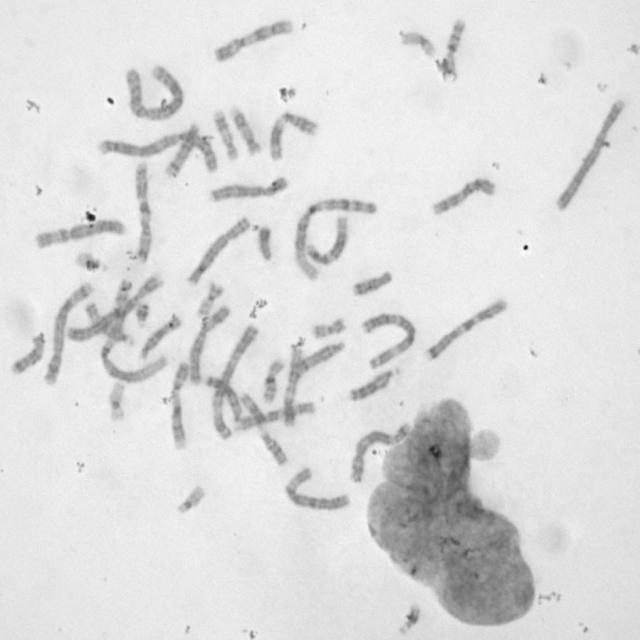A1: (98, 279, 168, 384), (292, 197, 377, 283)
A2: (97, 130, 219, 174), (124, 60, 185, 123)
A3: (211, 323, 260, 442), (360, 310, 417, 370)
B4: (554, 98, 626, 212), (65, 270, 166, 346)
B5: (42, 281, 95, 387), (350, 421, 410, 484)
C10: (428, 176, 497, 217), (232, 400, 316, 433)
C11: (238, 391, 289, 468), (266, 110, 320, 163)
C12: (305, 215, 349, 266), (280, 347, 306, 428)
C6: (284, 466, 352, 514), (32, 218, 126, 251)
C7: (422, 298, 508, 364), (133, 161, 153, 265)
C8: (187, 215, 251, 286), (209, 174, 289, 203)
C9: (213, 18, 294, 62), (170, 360, 190, 452)
D13: (346, 364, 402, 402), (204, 373, 244, 420)
D14: (162, 121, 200, 178), (292, 341, 347, 377)
D15: (85, 300, 134, 346), (138, 314, 182, 364)
E16: (442, 16, 466, 84), (260, 357, 285, 404)
E17: (229, 105, 262, 156), (212, 108, 240, 162)
E18: (10, 331, 48, 376), (350, 270, 393, 298)
F19: (398, 30, 436, 60), (107, 381, 126, 424)
F20: (196, 280, 225, 318), (312, 316, 348, 339)
G21: (397, 602, 421, 634), (132, 300, 152, 330)
G22: (176, 484, 206, 514), (74, 250, 108, 274)
X: (187, 304, 231, 386)
Y: (258, 226, 273, 261)
